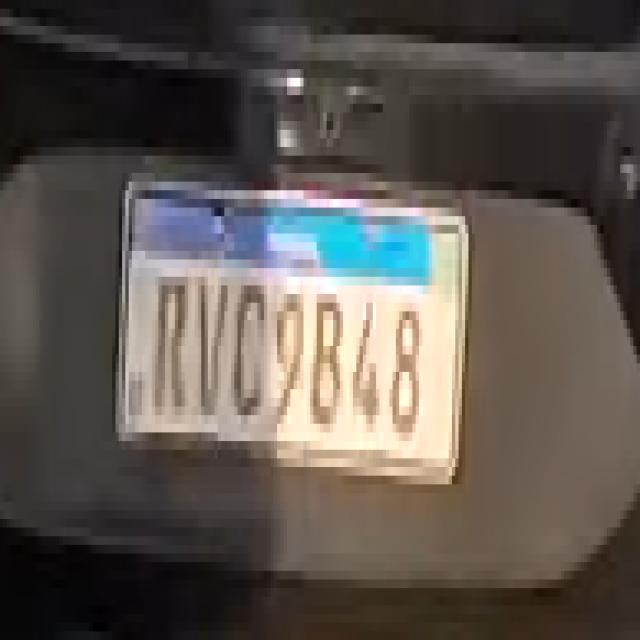Placa_mercosul_carro: (114, 179, 470, 487)
